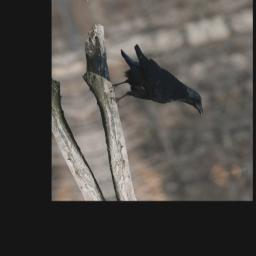Crow: (94, 33, 208, 135)
